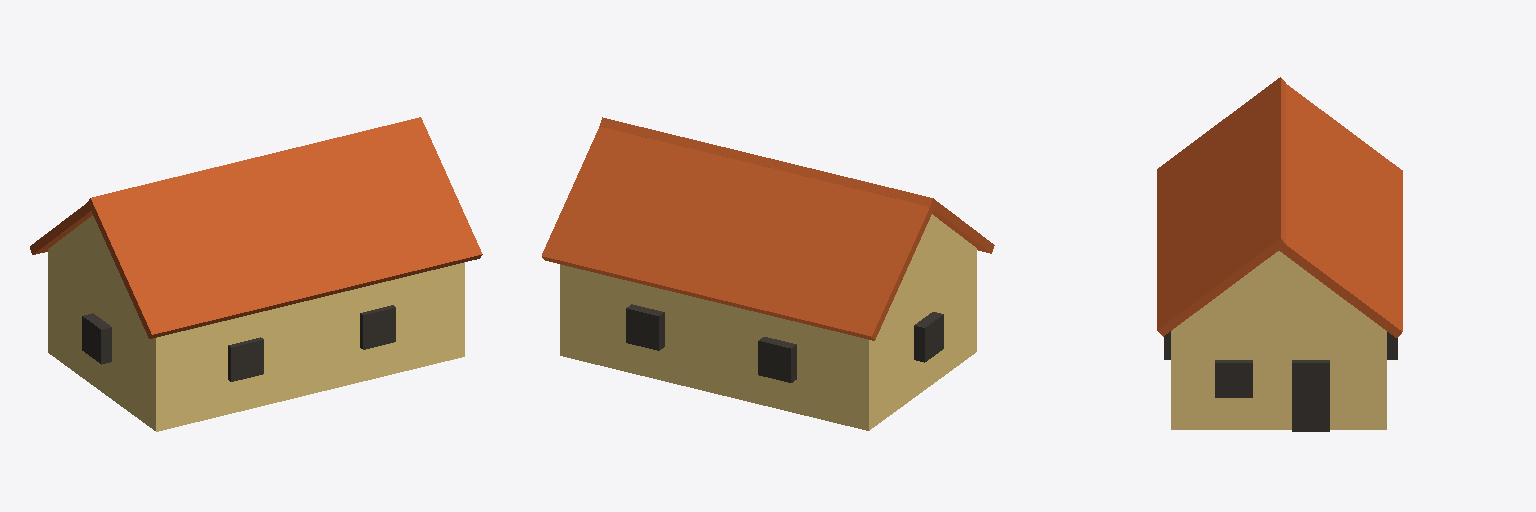
File: house_byzantine.obj
The picture shows the model from 3 angles: view 1: azimuth 30°, elevation 25°; view 2: azimuth 150°, elevation 25°; view 3: azimuth 270°, elevation 25°; orthographic projection.
Visible parts, largest first — view 1: mesh[number redacted]; view 2: mesh[number redacted]; view 3: mesh[number redacted].
Boxes of the visible parts, x1,y1,x2,y2 form: mesh[number redacted]: [30, 117, 482, 431]; mesh[number redacted]: [542, 117, 994, 430]; mesh[number redacted]: [1157, 77, 1402, 431].
Bounding box in the file's own units: 1 × 0.5687 × 0.6437.